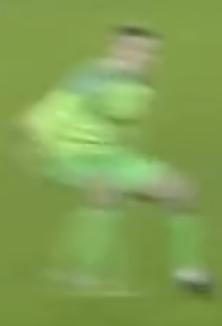goalkeeper: (14, 7, 222, 326)
